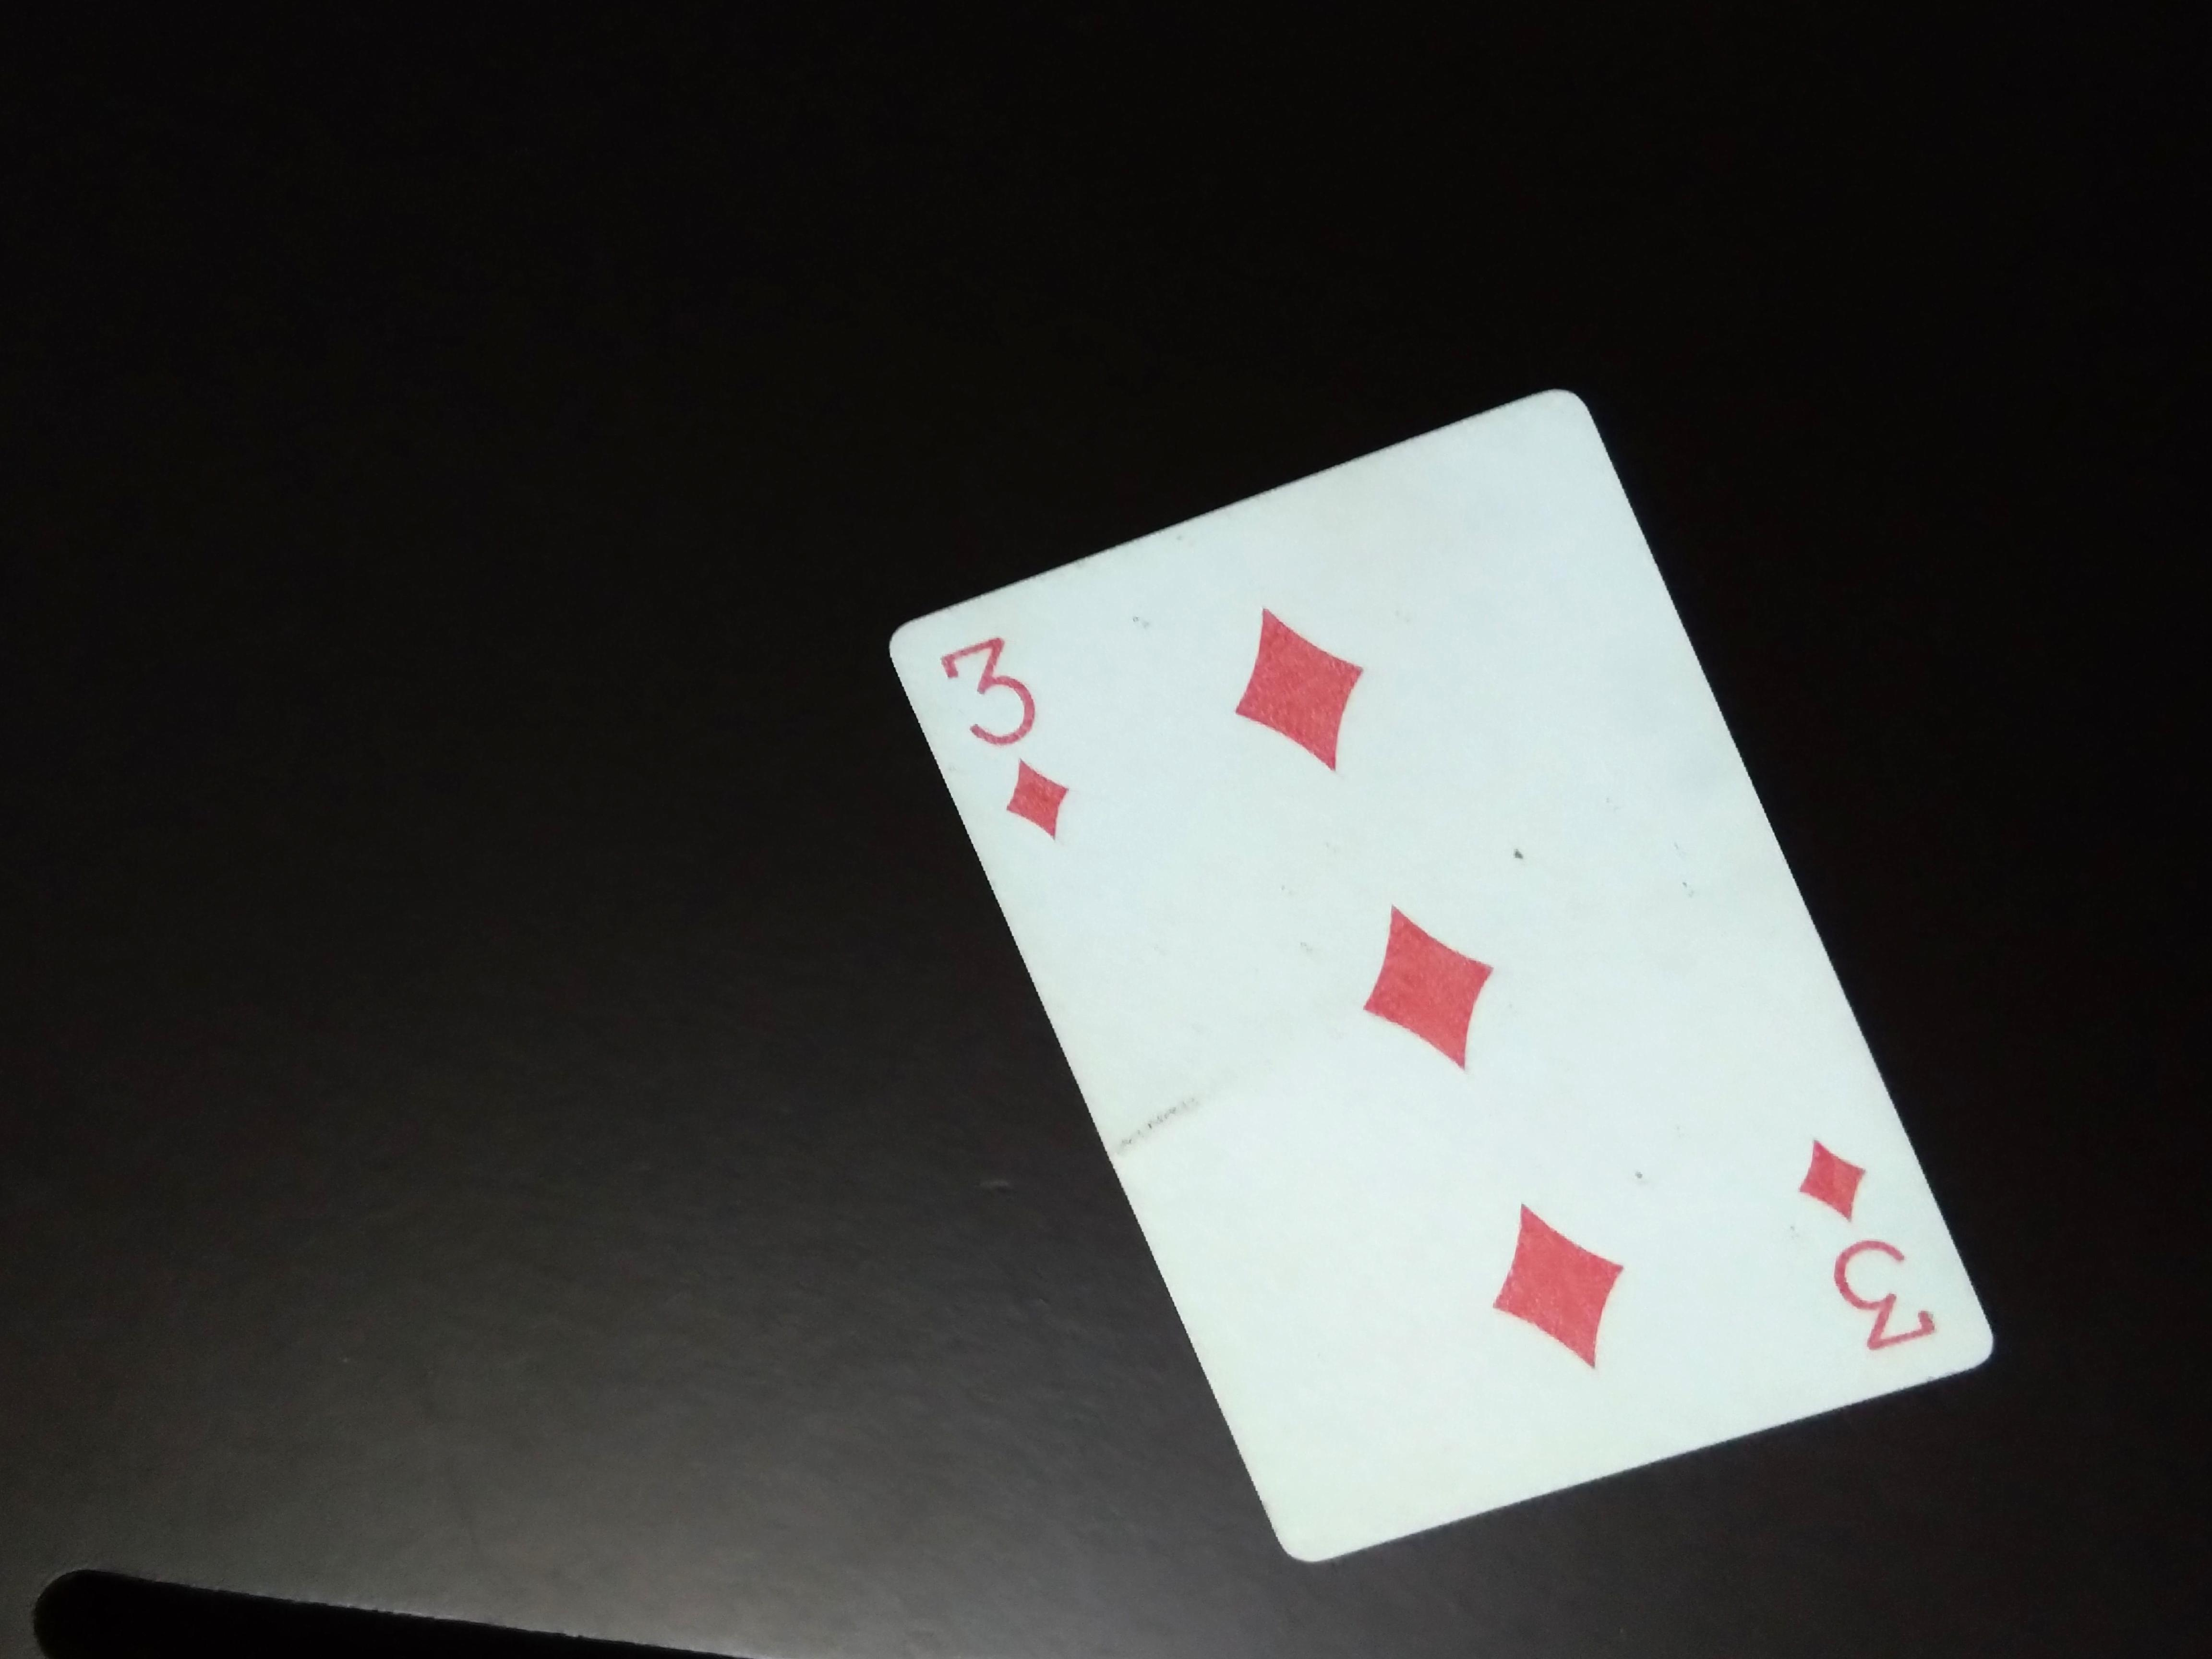3D: (916, 626, 1092, 863)
